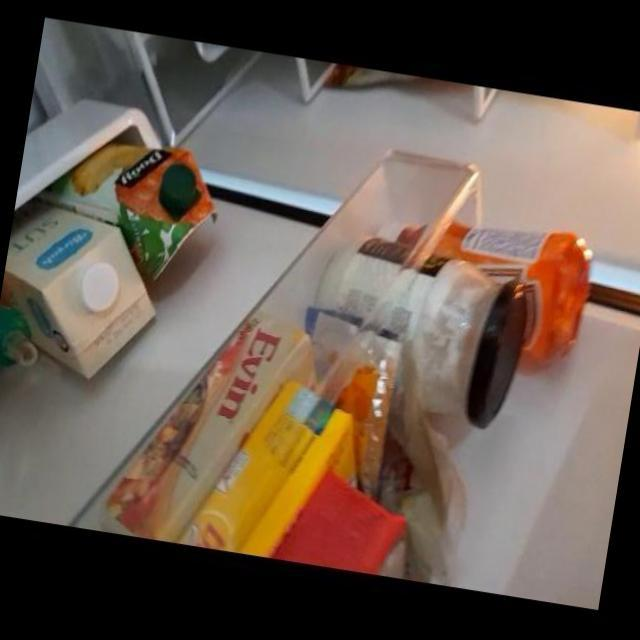Mantequilla: (129, 334, 352, 572)
